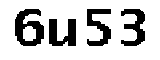3: (116, 6, 149, 52)
5: (84, 3, 115, 52)
6: (11, 6, 45, 51)
u: (47, 14, 81, 52)
